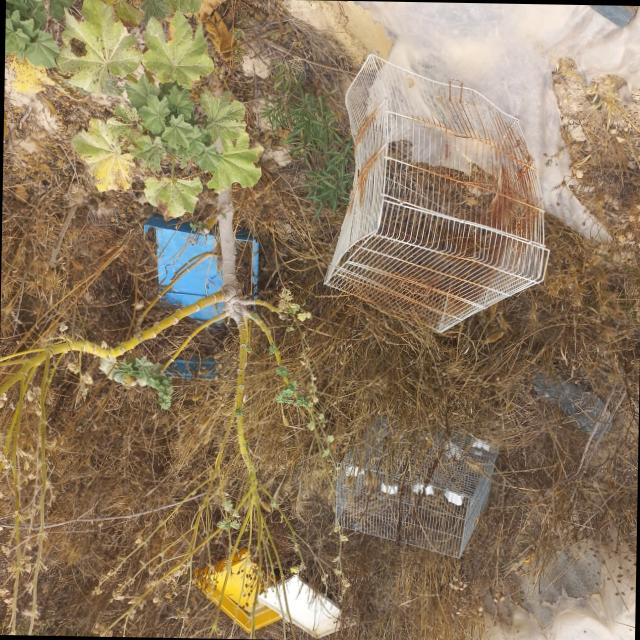Other litter: (321, 50, 551, 335), (334, 414, 499, 559), (86, 200, 119, 227)
Other plastic: (344, 0, 640, 247), (143, 212, 259, 382), (190, 548, 359, 640), (473, 545, 636, 640), (531, 366, 613, 436)
